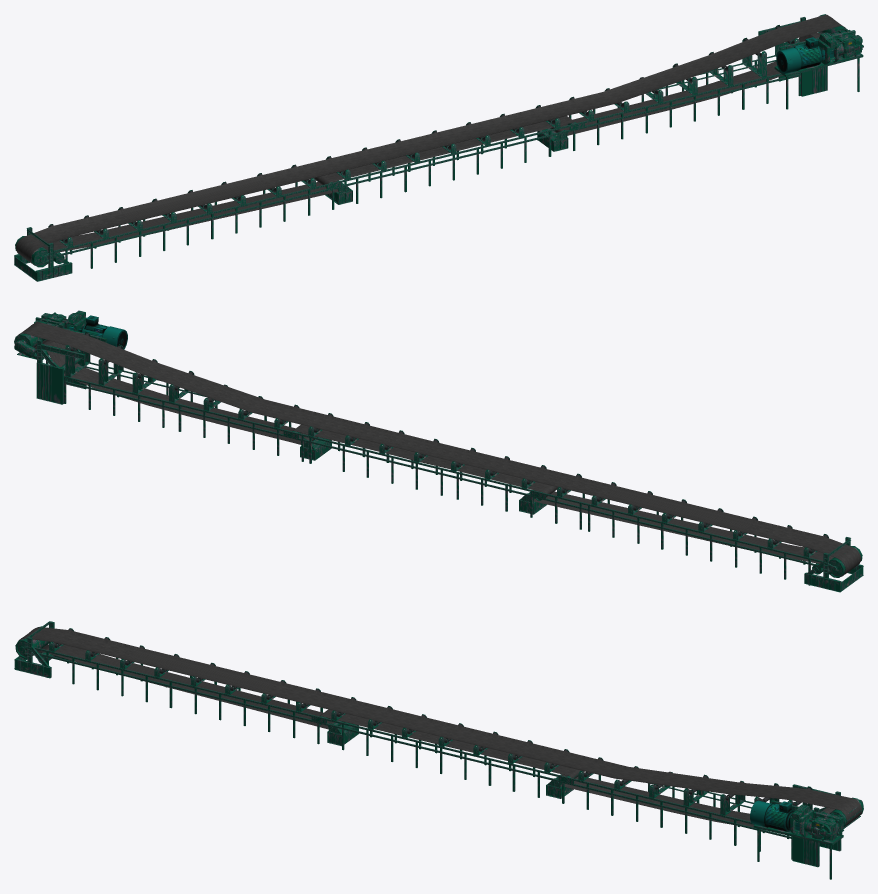
File: HJ_MKTS_018_v2.FBX
3 views of the same model, one above another, from view 1: azimuth 30°, elevation 25°; view 2: azimuth 150°, elevation 25°; view 3: azimuth 330°, elevation 25° (orthographic).
Parts seen in each view (by area): view 1: ZJ_JW_15_01, ZJ_JW_15_06, ZJ_JW_15_17, ZJ_JW_15_18, ZJ_JW_15_07, ZJ_JW_15_03, ZJ_JW_15_16, ZJ_JW_15_00; view 2: ZJ_JW_15_01, ZJ_JW_15_06, ZJ_JW_15_00, ZJ_JW_15_07, ZJ_JW_15_18, ZJ_JW_15_16, ZJ_JW_15_03, ZJ_JW_15_17; view 3: ZJ_JW_15_01, ZJ_JW_15_06, ZJ_JW_15_17, ZJ_JW_15_18, ZJ_JW_15_00, ZJ_JW_15_07, ZJ_JW_15_16, ZJ_JW_15_03.
Boxes of the visible parts, x1,y1,x2,y2 form: ZJ_JW_15_01: (16,14,845,265); ZJ_JW_15_06: (48,25,859,274); ZJ_JW_15_17: (774,29,863,76); ZJ_JW_15_18: (776,37,833,73); ZJ_JW_15_07: (14,227,72,281); ZJ_JW_15_03: (325,128,568,204); ZJ_JW_15_16: (49,26,794,243); ZJ_JW_15_00: (781,17,827,96); ZJ_JW_15_01: (18,321,861,576); ZJ_JW_15_06: (46,331,828,585); ZJ_JW_15_00: (17,323,84,404); ZJ_JW_15_07: (804,537,863,592); ZJ_JW_15_18: (69,315,127,349); ZJ_JW_15_16: (70,333,827,553); ZJ_JW_15_03: (300,437,546,514); ZJ_JW_15_17: (34,310,86,350); ZJ_JW_15_01: (18,627,862,827); ZJ_JW_15_06: (34,628,831,879); ZJ_JW_15_17: (753,804,843,845); ZJ_JW_15_18: (750,800,799,831); ZJ_JW_15_00: (792,791,860,867); ZJ_JW_15_07: (14,621,71,678); ZJ_JW_15_16: (52,629,810,805); ZJ_JW_15_03: (327,722,573,798).
Bounding box in the file's own units: 19.21 × 1.4 × 1.58.
